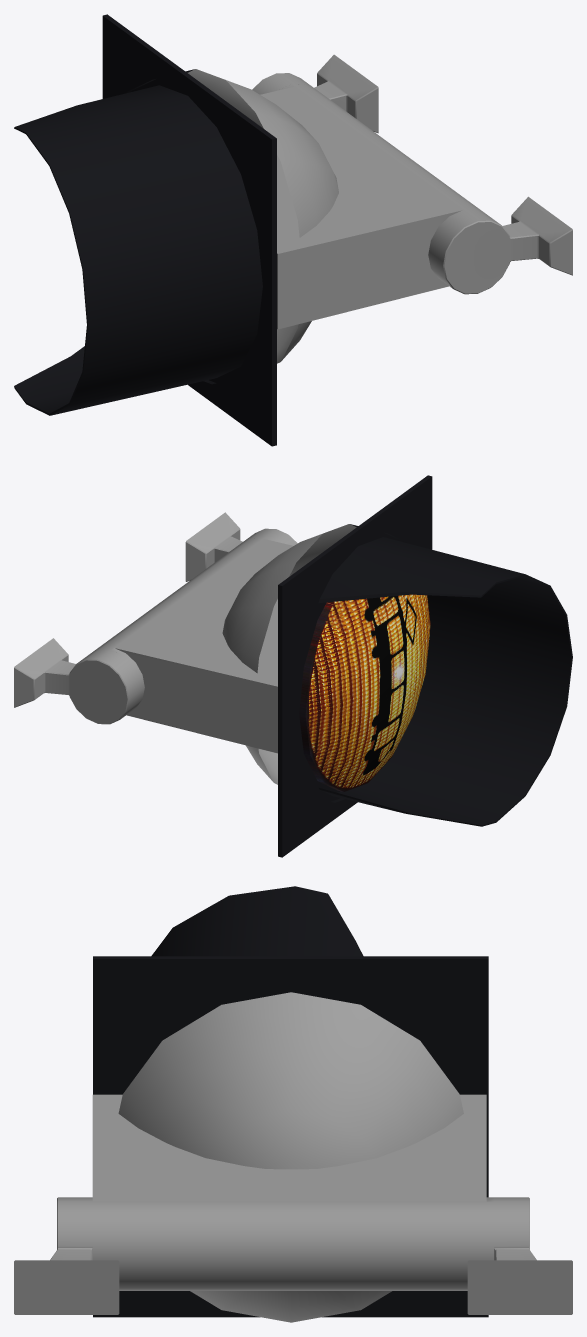
Rendered from Schutzblinker_Strassenbahn_Mast.obj.
3 renders of one model, top to bottom at view 1: azimuth 30°, elevation 25°; view 2: azimuth 150°, elevation 25°; view 3: azimuth 270°, elevation 25°, orthographic. The views are drawn at different scales.
Parts seen in each view (by area): view 1: Sonnenblende.003_Cylinder.005, Cube.003_Cube.005, Blende.003_Cube.006, Masthalterung.002_Cylinder.006, BezierCurve.001_BezierCurve.002, Masthalterung.003_Cylinder.006; view 2: Sonnenblende.003_Cylinder.005, BezierCurve.001_BezierCurve.002, Cube.003_Cube.005, Blende.003_Cube.006, Masthalterung.003_Cylinder.006, Masthalterung.002_Cylinder.006; view 3: Cube.003_Cube.005, BezierCurve.001_BezierCurve.002, Blende.003_Cube.006, Sonnenblende.003_Cylinder.005, Masthalterung.003_Cylinder.006, Masthalterung.002_Cylinder.006.
Part boxes in pixels (left/top/right/bottom): Sonnenblende.003_Cylinder.005: left=14, top=85, right=262, bottom=415; Cube.003_Cube.005: left=260, top=84, right=486, bottom=329; Blende.003_Cube.006: left=102, top=14, right=276, bottom=446; Masthalterung.002_Cylinder.006: left=428, top=196, right=572, bottom=294; BezierCurve.001_BezierCurve.002: left=126, top=69, right=338, bottom=384; Masthalterung.003_Cylinder.006: left=252, top=54, right=378, bottom=133; Sonnenblende.003_Cylinder.005: left=318, top=537, right=572, bottom=826; BezierCurve.001_BezierCurve.002: left=222, top=524, right=430, bottom=802; Cube.003_Cube.005: left=90, top=538, right=292, bottom=753; Blende.003_Cube.006: left=278, top=475, right=432, bottom=857; Masthalterung.003_Cylinder.006: left=14, top=638, right=141, bottom=724; Masthalterung.002_Cylinder.006: left=185, top=512, right=297, bottom=581; Cube.003_Cube.005: left=92, top=1094, right=493, bottom=1290; BezierCurve.001_BezierCurve.002: left=118, top=992, right=463, bottom=1322; Blende.003_Cube.006: left=93, top=956, right=488, bottom=1317; Sonnenblende.003_Cylinder.005: left=151, top=886, right=363, bottom=956; Masthalterung.003_Cylinder.006: left=467, top=1197, right=572, bottom=1314; Masthalterung.002_Cylinder.006: left=14, top=1197, right=119, bottom=1314.
Size of the model in its own units: 0.5668 by 0.3789 by 0.5357.
Materials: 3 (3 with a texture image).
